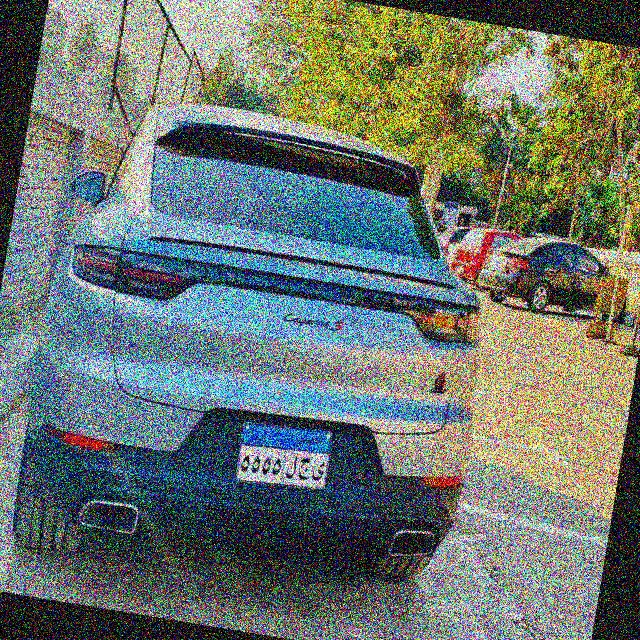License Plate: (232, 415, 338, 499)
